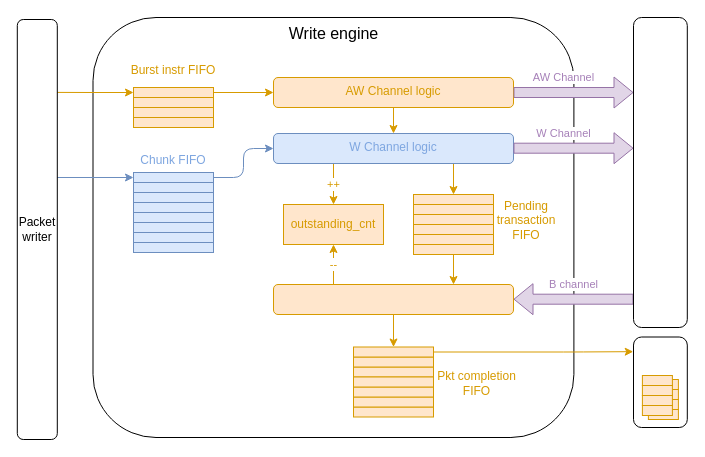
Some shapes in this 705 by 457 pixel diagram are drawn without their labels. Here are the shapes that lost their labels. From the top down, the centre of each, then its label:
At (x=659, y=172): "HBM Controller AXI port".
At (x=393, y=299): "B channel logic".
At (x=659, y=382): "Packet queues".
